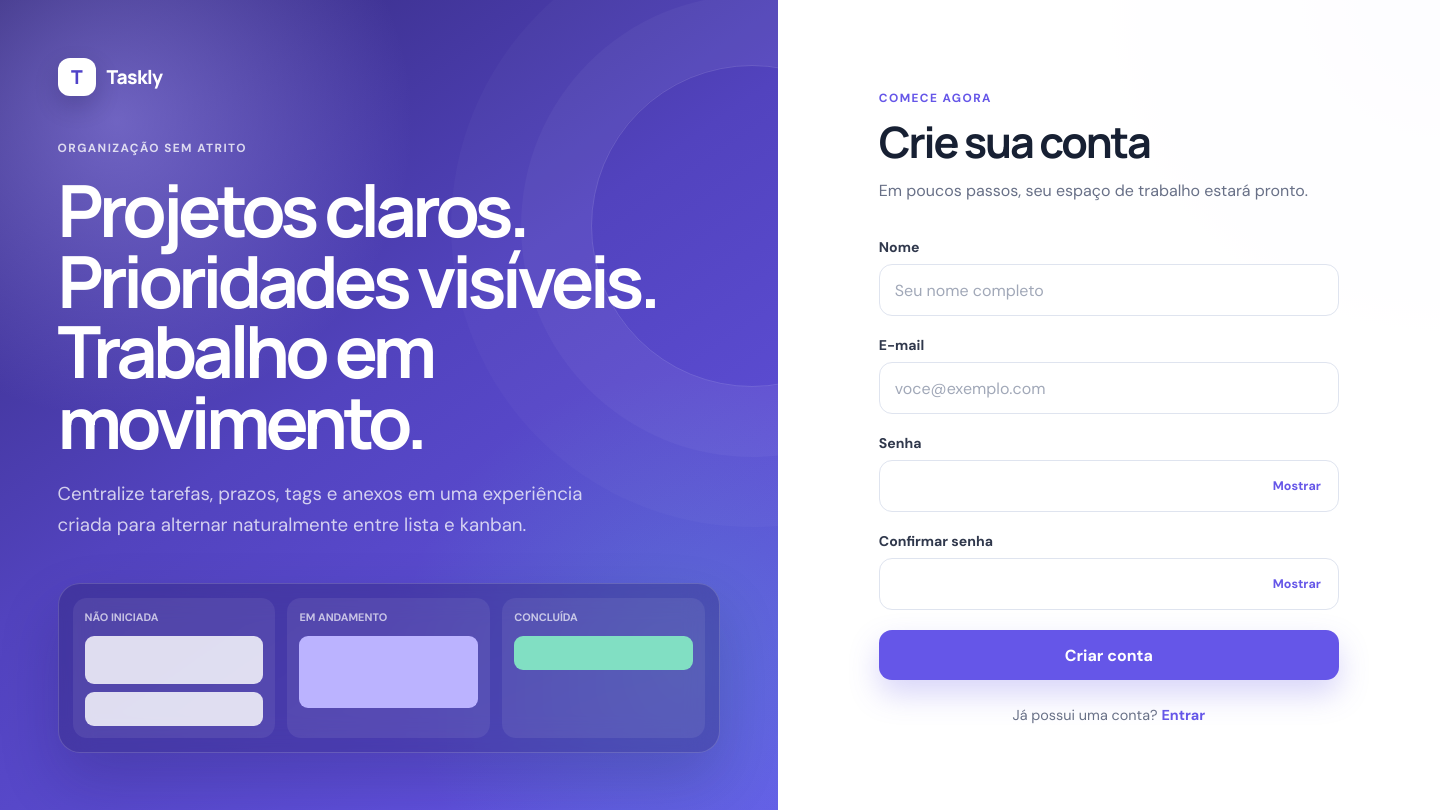
it: RegisterPage › rejects different passwords without sending a request
In the field labelled "Nome": (1109, 290) left=879, top=264, right=1339, bottom=316, type "Ana Silva"
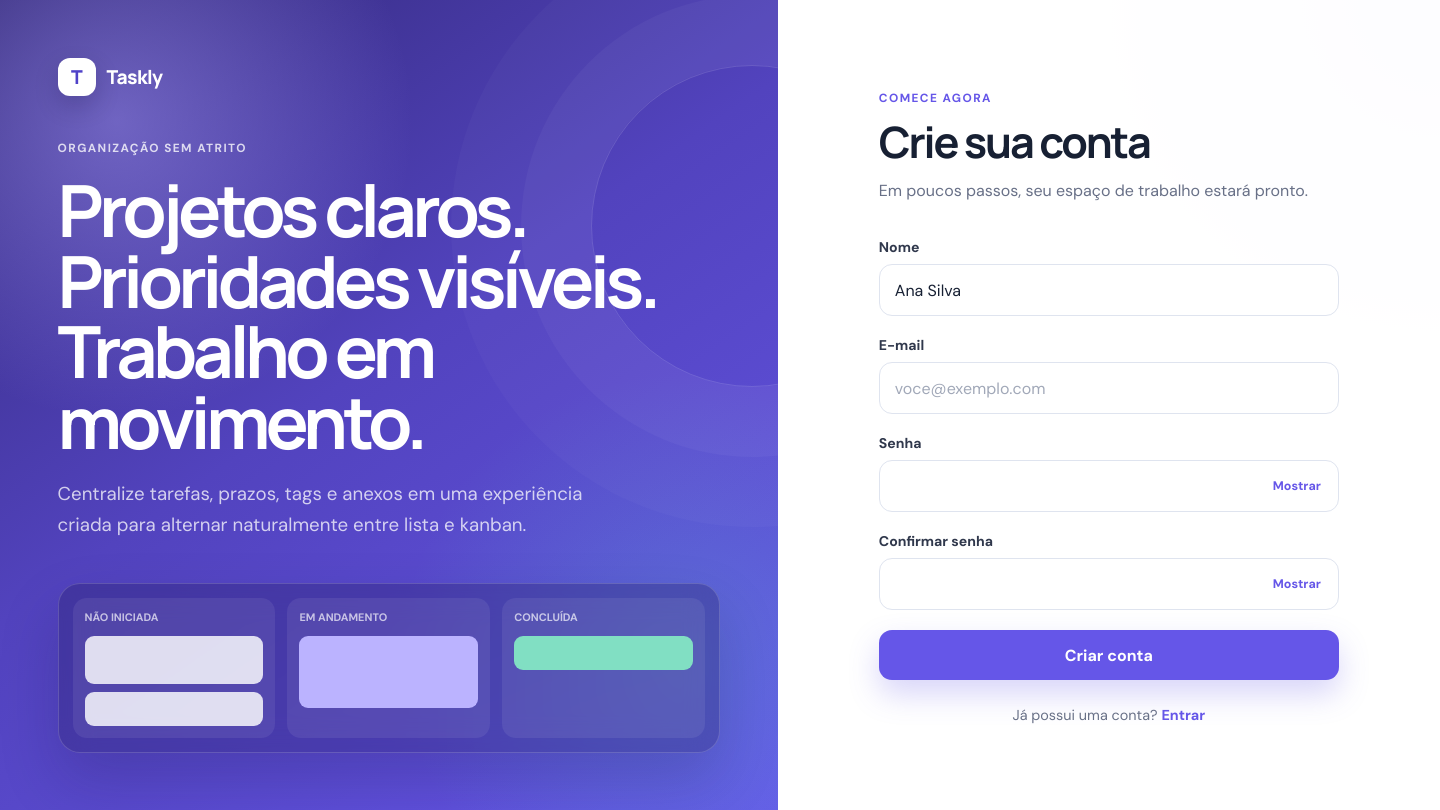
In the field labelled "E-mail": (1109, 388) left=879, top=362, right=1339, bottom=414, type "ana@example.com"
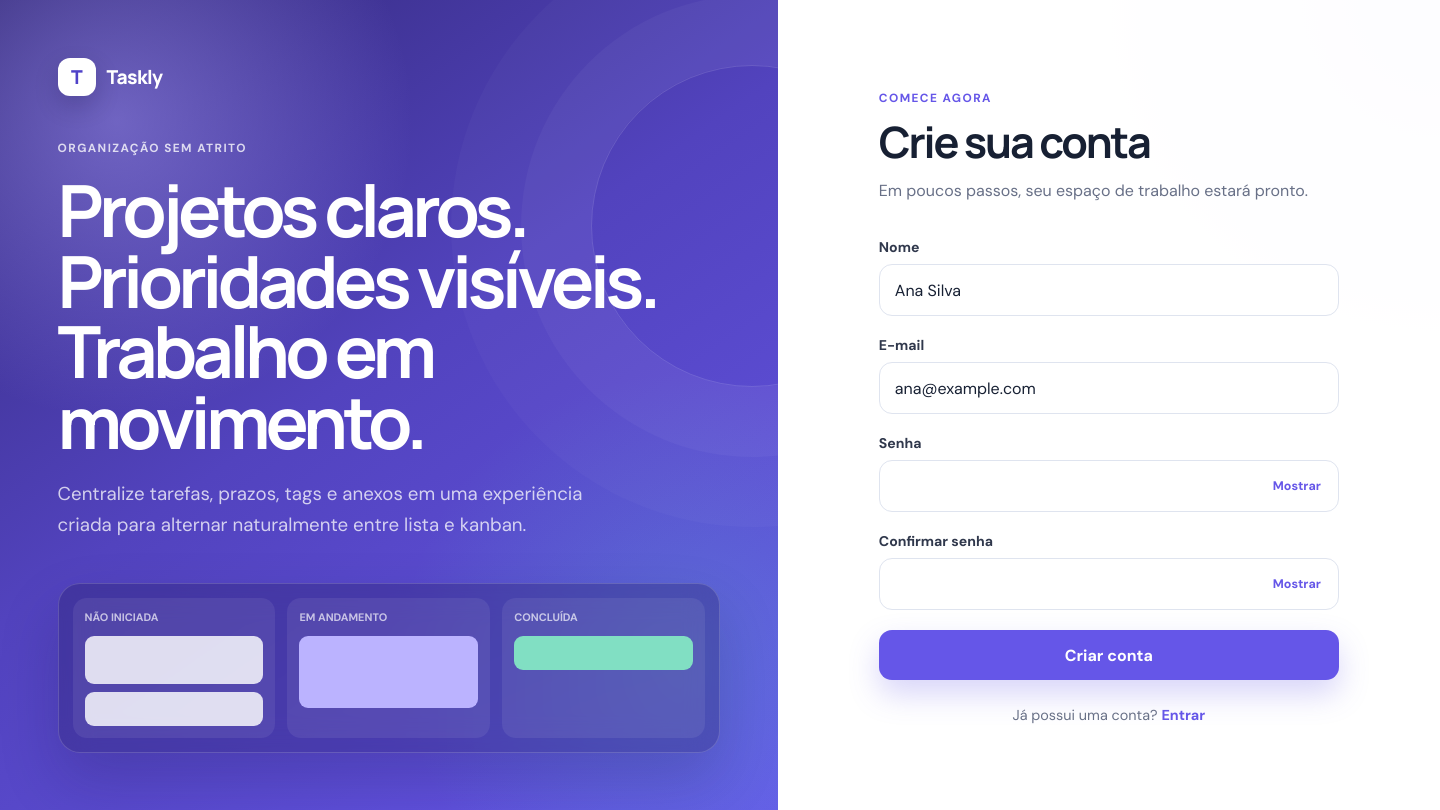
In the password field labelled "Senha": (1109, 486) left=879, top=460, right=1339, bottom=512, type "StrongPassword123"
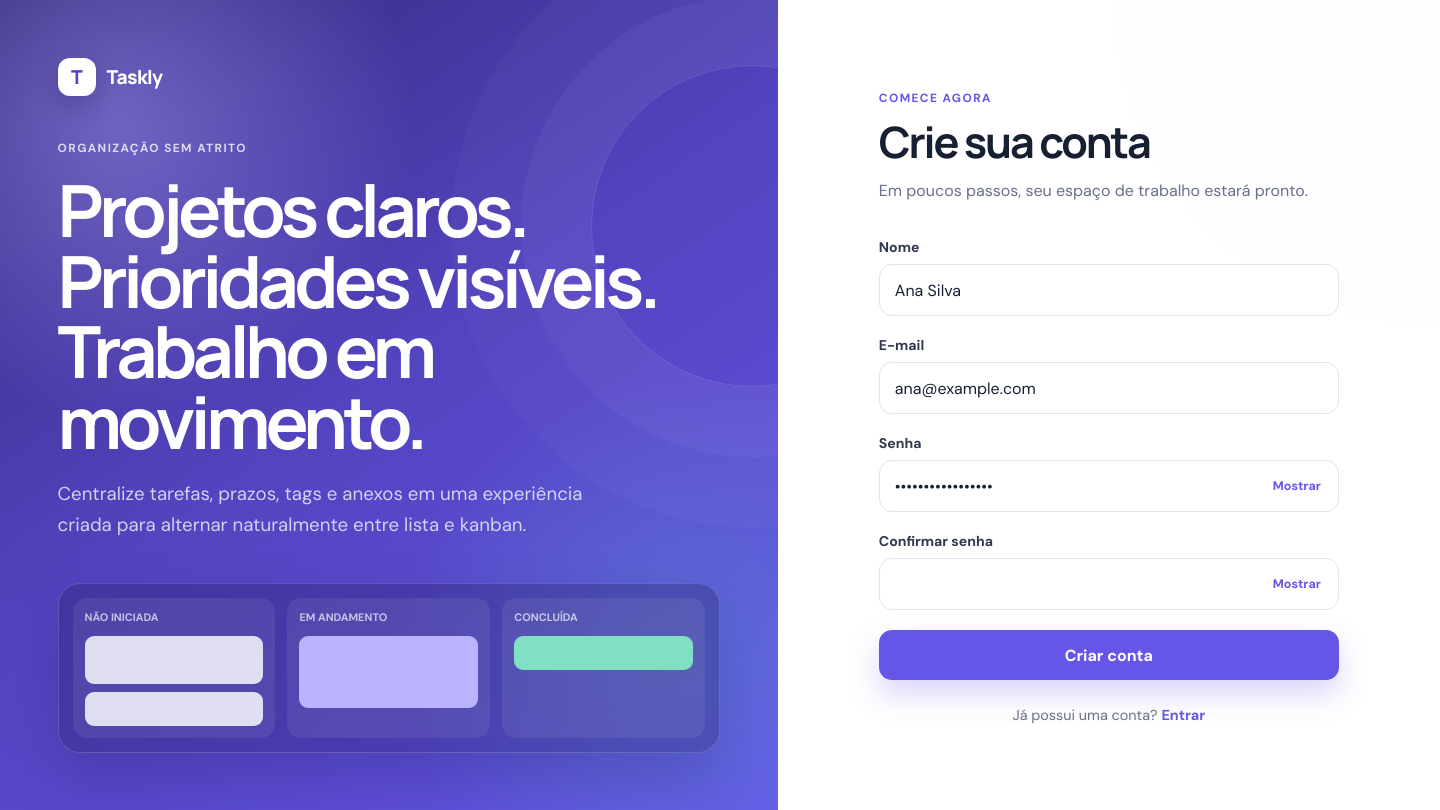
In the password field labelled "Confirmar senha": (1109, 584) left=879, top=558, right=1339, bottom=610, type "DifferentPassword123"
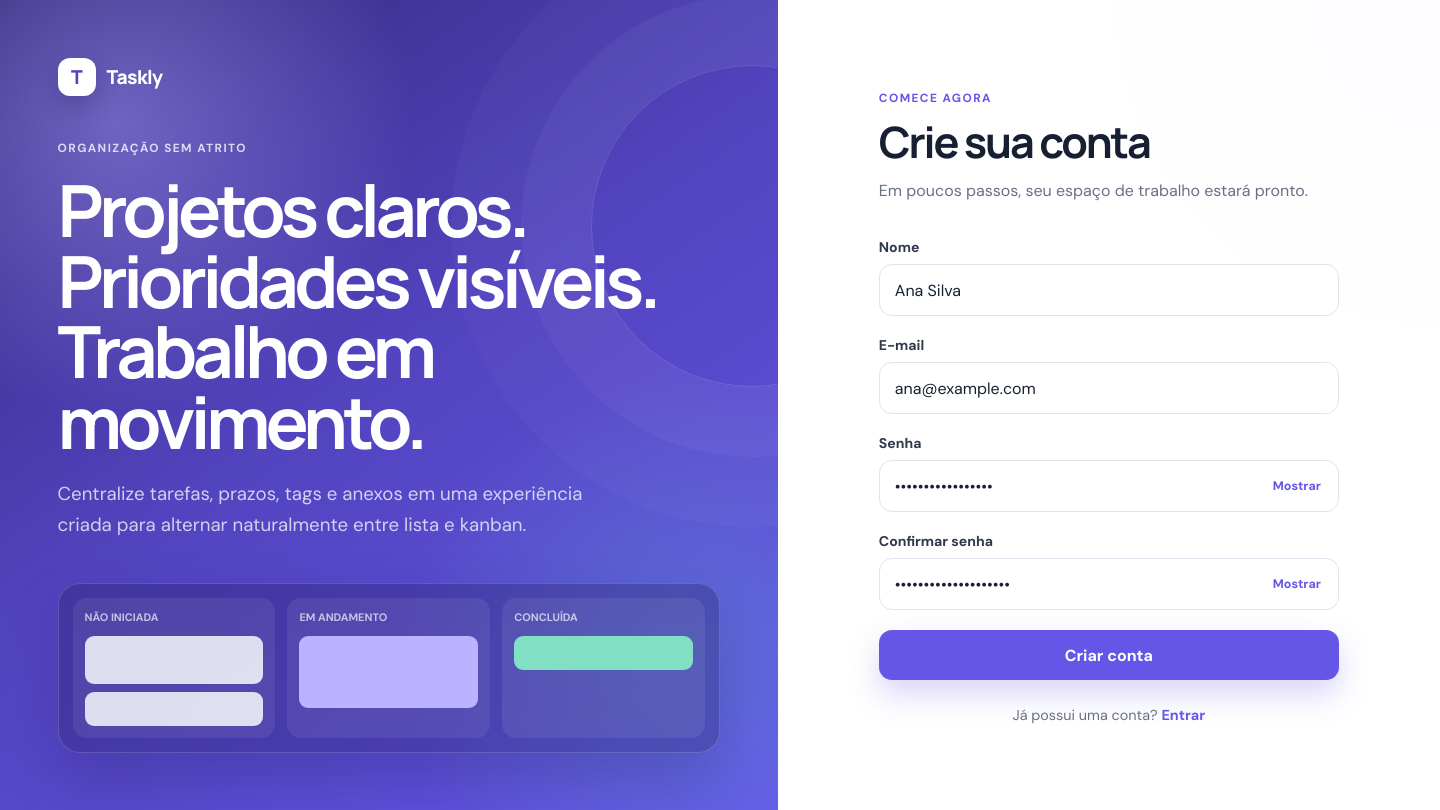
Click the button "Criar conta": (1109, 655) left=879, top=630, right=1339, bottom=680
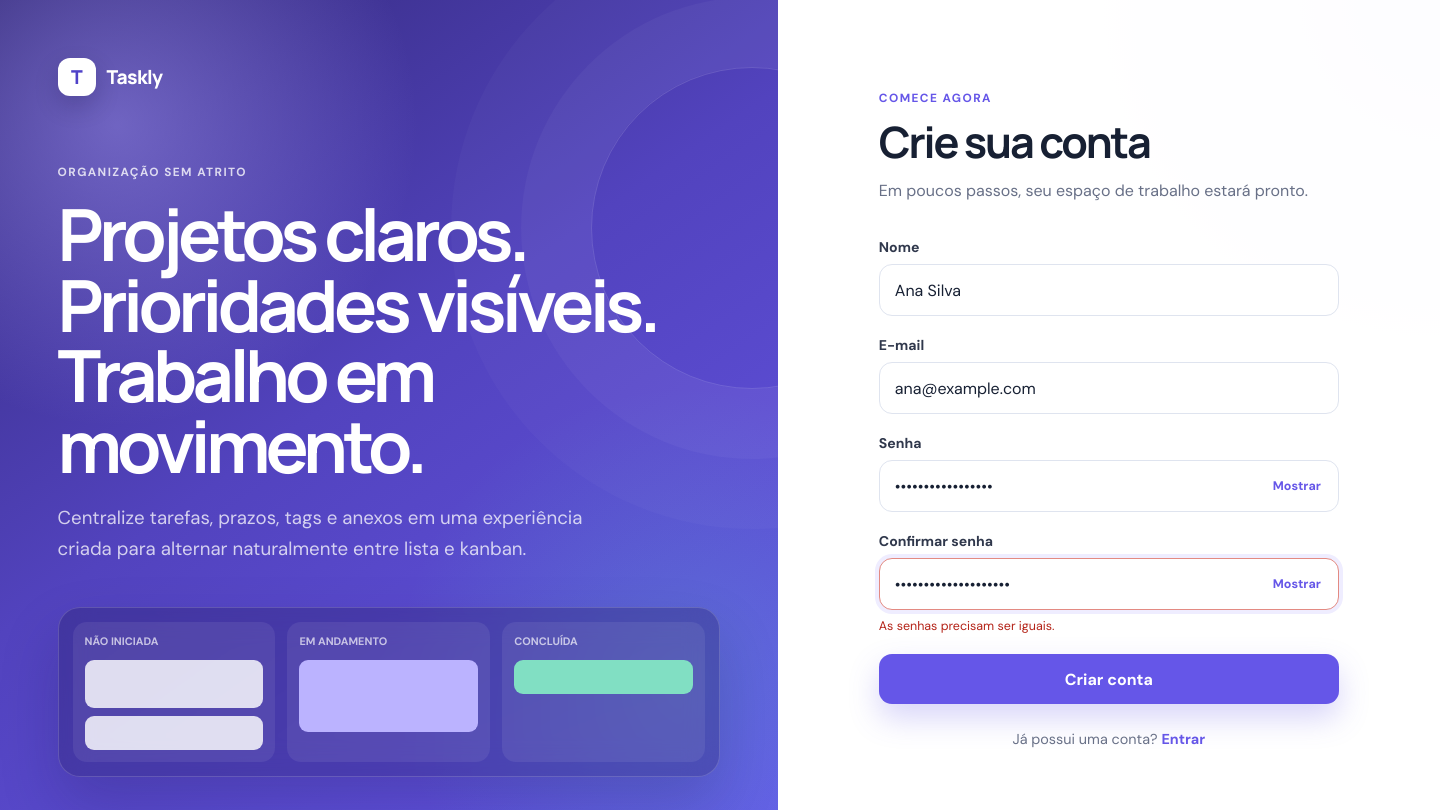
Now the text "As senhas precisam ser iguais." is shown, box left=879, top=618, right=1054, bottom=634
